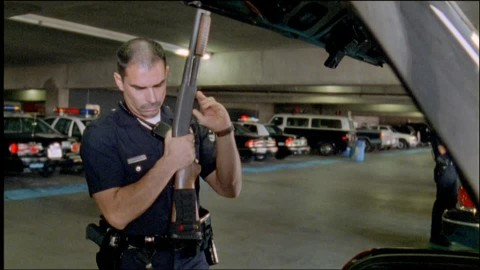rifle: (168, 2, 227, 263)
